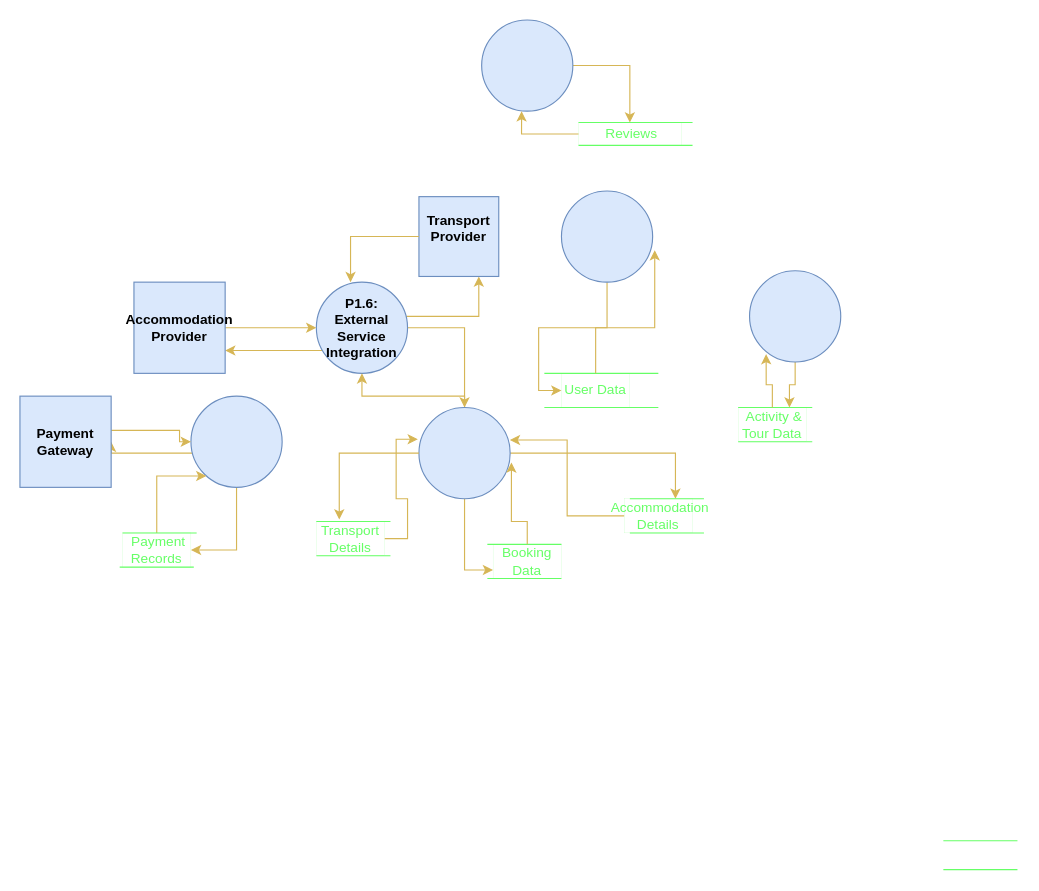
Image size: 1039x891. Some labels were removed from this diagram. Each missing label, with the centre of its shape:
"P1.1: User Authentication" belongs at [606,236].
"P1.2: Booking Management" belongs at [464,452].
"P1.3: Browse Activities & Tours" belongs at [794,316].
"P1.4: Payment Handling" belongs at [236,441].
"P1.5: Review Management" belongs at [527,65].
